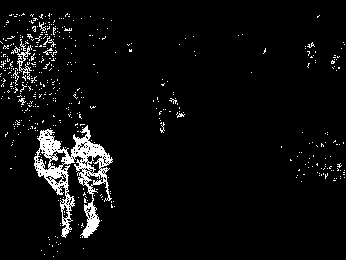person: (71, 129, 114, 239), (36, 129, 75, 239)
